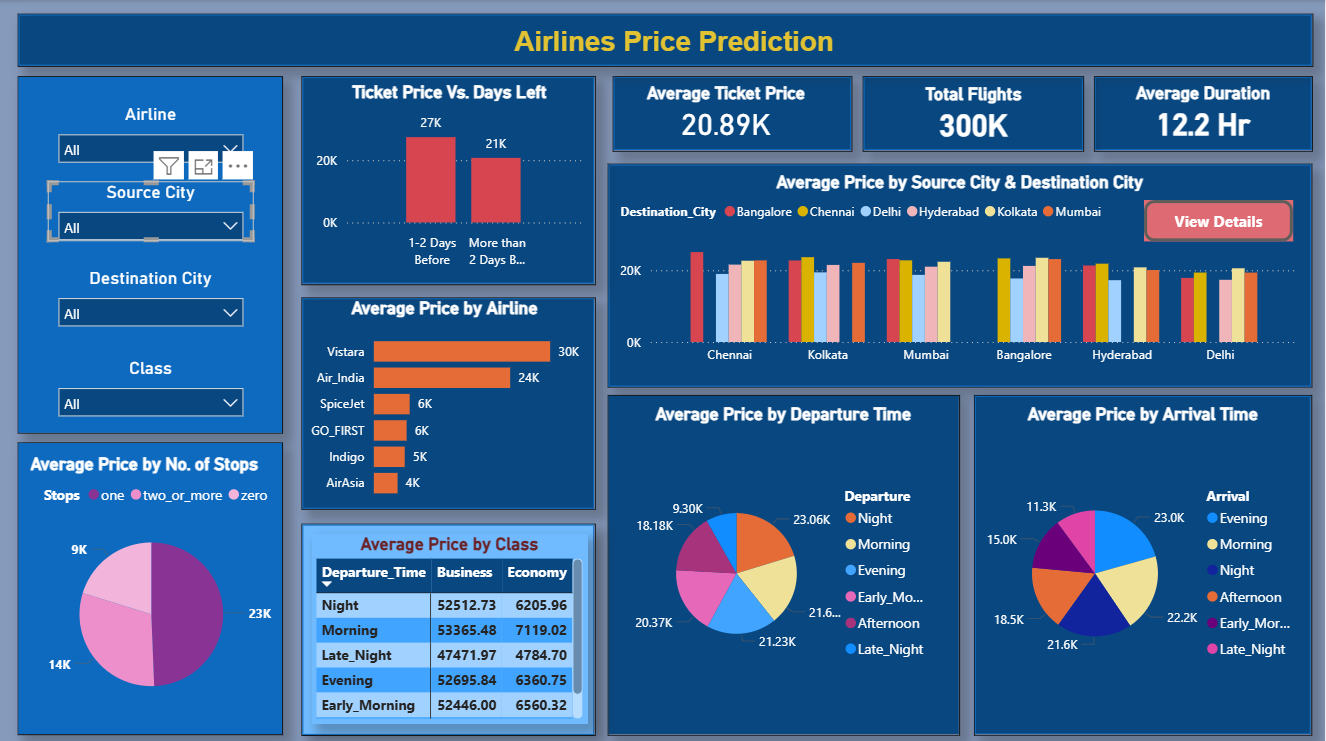

Layout of this report page (visuals, bound fields, positions):
{"tool":"powerbi","page":{"name":"Detailed Dashboard","canvas":[1280,720],"ordinal":0},"visuals":[{"type":"shape","box":[592.5,73.8,231.2,72.5],"z":0},{"type":"card","title":"Average Ticket Price","fields":{"Values":["Avg(Clean_Dataset.price)"]},"box":[611.2,80,180,58.8],"z":1000},{"type":"shape","box":[1056.2,73.8,211.2,72.5],"z":2000},{"type":"shape","box":[833.8,73.8,213.8,72.5],"z":3000},{"type":"shape","box":[17.5,13.8,1250,51.2],"z":4000},{"type":"shape","box":[17.5,73.8,256.2,345],"z":5000},{"type":"shape","box":[292.5,287.5,283.8,205],"z":6000},{"type":"shape","box":[587.5,157.5,680,216.2],"z":7000},{"type":"shape","box":[292.5,73.8,283.8,201.2],"z":8000},{"type":"shape","box":[587.5,381.2,340,328.8],"z":9000},{"type":"shape","box":[941.2,381.2,326.2,328.8],"z":10000},{"type":"shape","box":[292.5,505,283.8,205],"z":11000},{"type":"shape","box":[17.5,427.5,256.2,282.5],"z":12000},{"type":"card","title":"Total Flights","fields":{"Values":["CountNonNull(Clean_Dataset.flight)"]},"box":[867.5,81.2,146.2,57.5],"z":13000},{"type":"card","title":"Average Duration","fields":{"Values":["Clean_Dataset.Average Duration"]},"box":[1085,80,155,58.8],"z":14000},{"type":"slicer","title":"Class","fields":{"Values":["Clean_Dataset.class"]},"box":[47.5,345,198.8,57.5],"z":15000},{"type":"slicer","title":"Destination City","fields":{"Values":["Clean_Dataset.destination_city"]},"box":[47.5,258.8,198.8,57.5],"z":16000},{"type":"slicer","title":"Source City","fields":{"Values":["Clean_Dataset.source_city"]},"box":[47.5,175,198.8,57.5],"z":17000},{"type":"slicer","title":"Airline","fields":{"Values":["Clean_Dataset.airline"]},"box":[47.5,100,198.8,57.5],"z":18000},{"type":"clusteredBarChart","title":"Average Price by Airline","fields":{"Category":["Clean_Dataset.airline"],"Y":["Avg(Clean_Dataset.price)"]},"box":[292.5,287.5,276.2,205],"z":19000},{"type":"clusteredColumnChart","title":"Ticket Price Vs. Days Left","fields":{"Category":["Clean_Dataset.Booking_Category"],"Y":["Avg(Clean_Dataset.price)"]},"box":[301.2,78.8,266.2,187.5],"z":20000},{"type":"clusteredColumnChart","title":"Average Price by Source City & Destination City","fields":{"Category":["Clean_Dataset.source_city"],"Series":["Clean_Dataset.destination_city"],"Y":["Avg(Clean_Dataset.price)"]},"box":[595,165,665,195],"z":21000},{"type":"textbox","box":[447.5,20,407.5,40],"z":24000},{"type":"pieChart","title":"Average Price by Departure Time","fields":{"Category":["Clean_Dataset.departure_time"],"Y":["Avg(Clean_Dataset.price)"]},"box":[603.8,390,307.5,308.8],"z":25000},{"type":"pieChart","title":"Average Price by Arrival Time","fields":{"Category":["Clean_Dataset.arrival_time"],"Y":["Avg(Clean_Dataset.price)"]},"box":[946.2,390,316.2,308.8],"z":26000},{"type":"pivotTable","title":"Average Price by Class","fields":{"Values":["Avg(Clean_Dataset.price)"],"Rows":["Clean_Dataset.departure_time"],"Columns":["Clean_Dataset.class"]},"box":[301.2,515,266.2,183.8],"z":26500},{"type":"pieChart","title":"Average Price by No. of Stops","fields":{"Category":["Clean_Dataset.stops"],"Y":["Avg(Clean_Dataset.price)"]},"box":[25,437.5,243.8,261.2],"z":27000},{"type":"actionButton","box":[1105,192.5,143.8,40],"z":27501}]}

Visuals, with their boxes in screenshot pixels (x1, y1, x2, y2), scaled from the page's 1280x720 canvas onto the 1326x741 screenshot:
shape: 614/76/853/151
"Average Ticket Price" card: 633/82/820/143
shape: 1094/76/1313/151
shape: 864/76/1085/151
shape: 18/14/1313/67
shape: 18/76/284/431
shape: 303/296/597/507
shape: 609/162/1313/385
shape: 303/76/597/283
shape: 609/392/961/731
shape: 975/392/1313/731
shape: 303/520/597/731
shape: 18/440/284/731
"Total Flights" card: 899/84/1050/143
"Average Duration" card: 1124/82/1285/143
"Class" slicer: 49/355/255/414
"Destination City" slicer: 49/266/255/326
"Source City" slicer: 49/180/255/239
"Airline" slicer: 49/103/255/162
"Average Price by Airline" clusteredBarChart: 303/296/589/507
"Ticket Price Vs. Days Left" clusteredColumnChart: 312/81/588/274
"Average Price by Source City & Destination City" clusteredColumnChart: 616/170/1305/370
textbox: 464/21/886/62
"Average Price by Departure Time" pieChart: 625/401/944/719
"Average Price by Arrival Time" pieChart: 980/401/1308/719
"Average Price by Class" pivotTable: 312/530/588/719
"Average Price by No. of Stops" pieChart: 26/450/278/719
actionButton: 1145/198/1294/239
